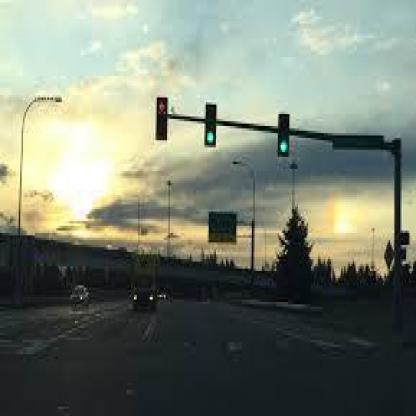other: (41, 116, 119, 226), (322, 186, 366, 238)
